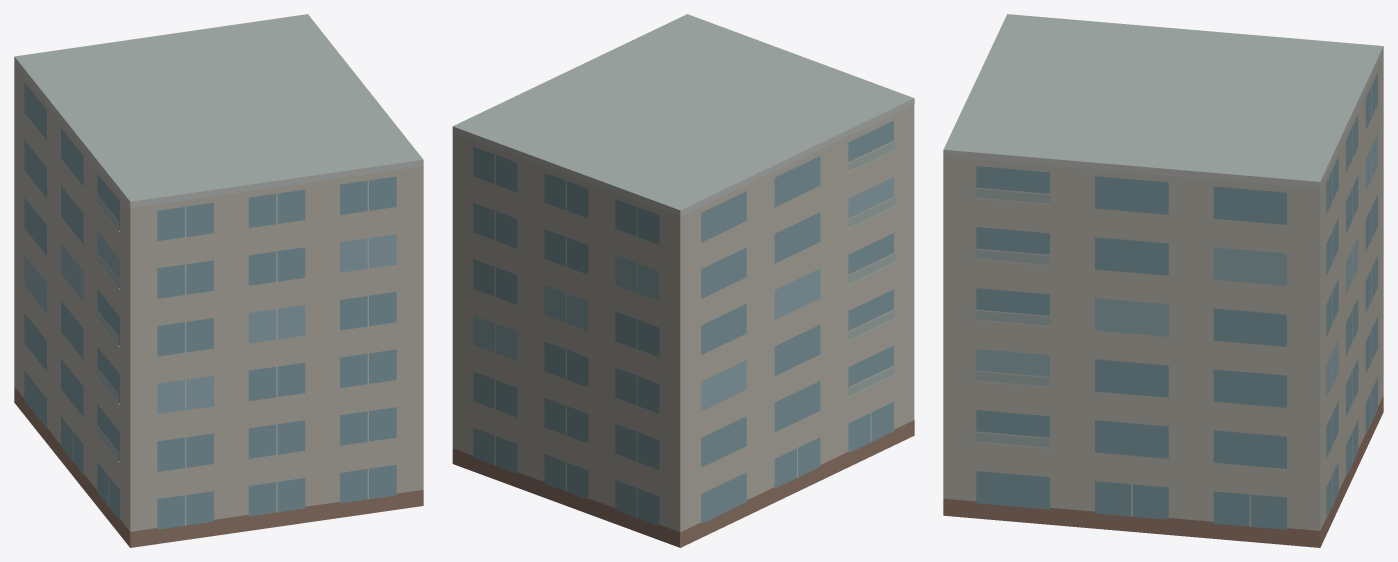
The model's file is survey-upis-32885842.glb.
The picture shows the model from 3 angles, left to right: view 1: azimuth 30°, elevation 25°; view 2: azimuth 150°, elevation 25°; view 3: azimuth 270°, elevation 25°; orthographic projection. The views are drawn at different scales.
Parts seen in each view (by area): view 1: survey-upis-32885842.tmp; view 2: survey-upis-32885842.tmp; view 3: survey-upis-32885842.tmp.
Boxes of the visible parts, bbox=[...] form: survey-upis-32885842.tmp: bbox=[14, 14, 423, 547]; survey-upis-32885842.tmp: bbox=[452, 14, 914, 547]; survey-upis-32885842.tmp: bbox=[943, 14, 1383, 547].
Size of the model in its own units: 13 by 13.2 by 14.4.
